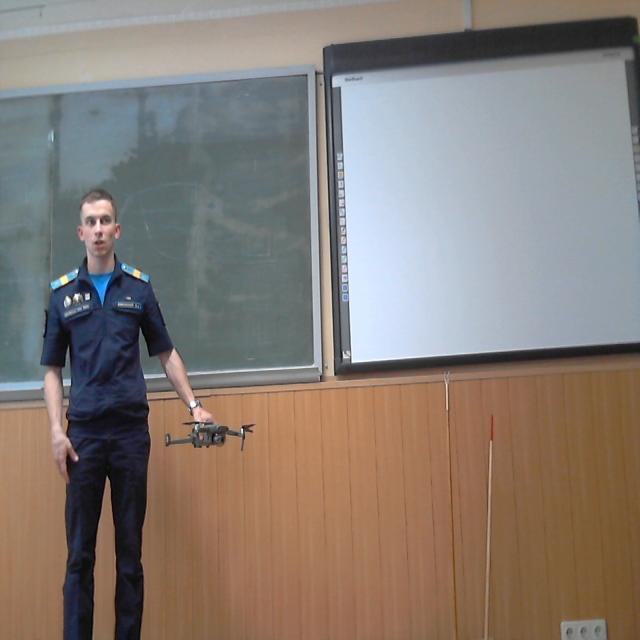drone: (154, 407, 255, 461)
